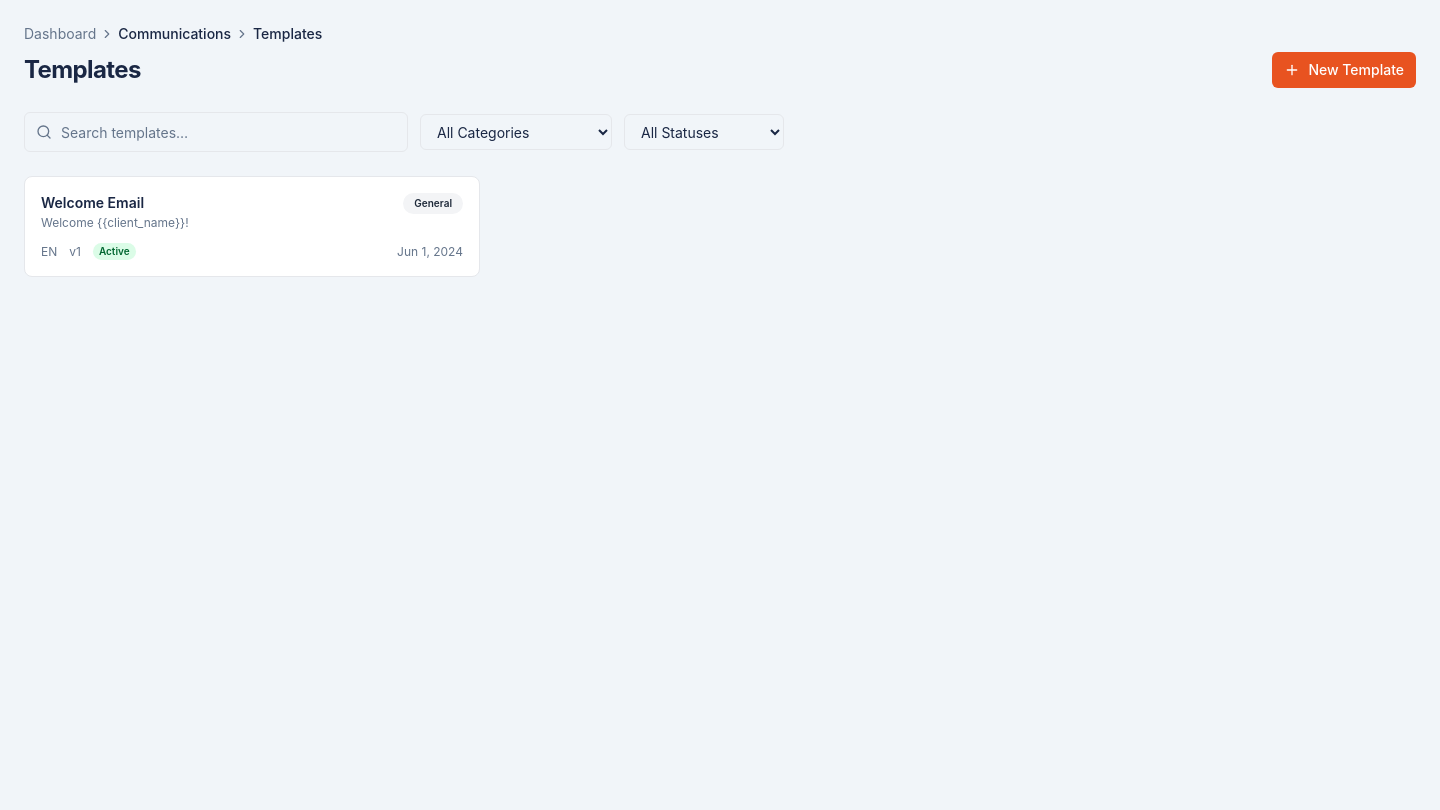
Scenario: TemplatesView › navigates back to list when clicking Back to templates
This screenshot has width=1440, height=810.
Click the heading "Welcome Email" at (93, 202), box [41, 194, 144, 211]
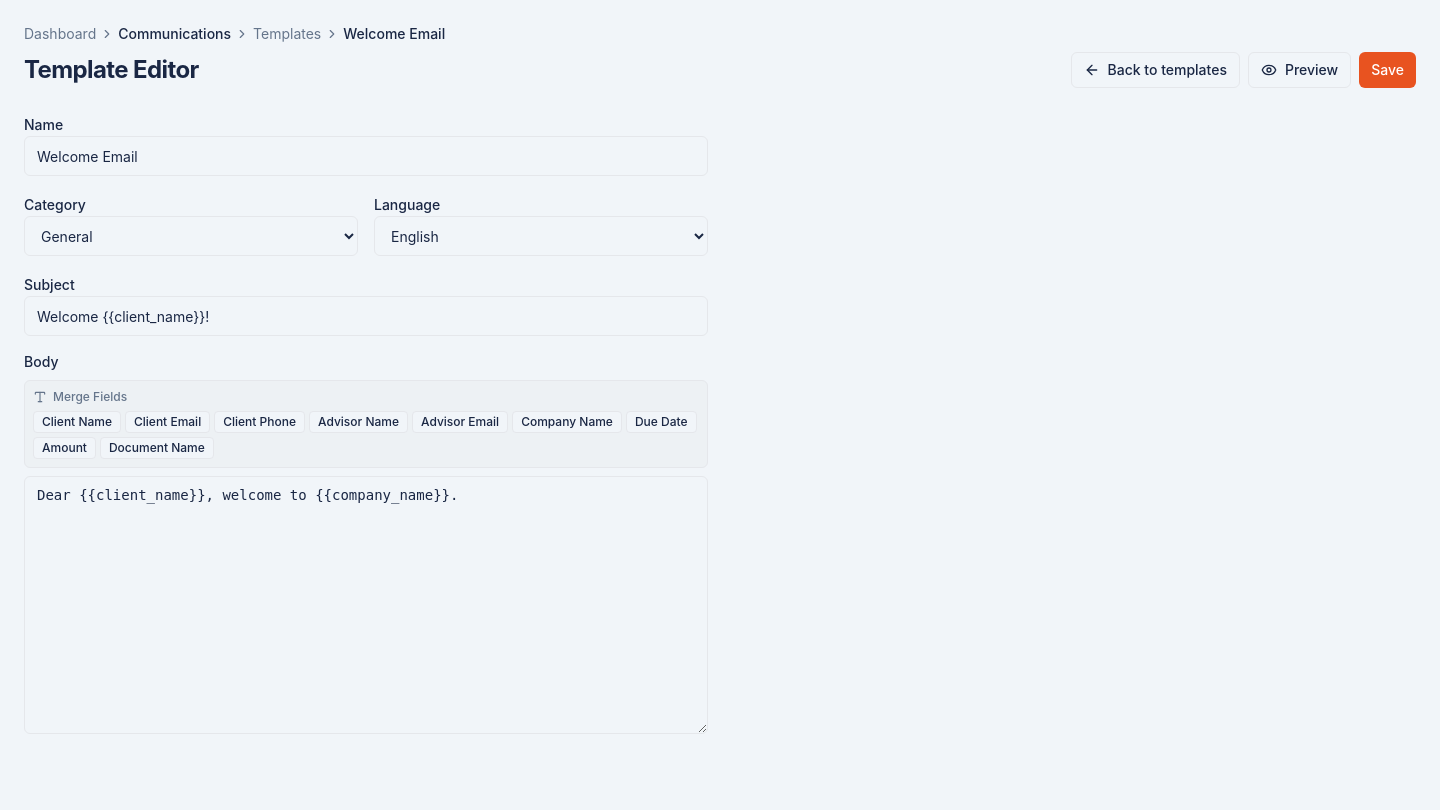
expect the heading reads "Template Editor": met, box [24, 55, 199, 84]
Click the button "Back to templates" at (1155, 70), box [1070, 52, 1240, 88]
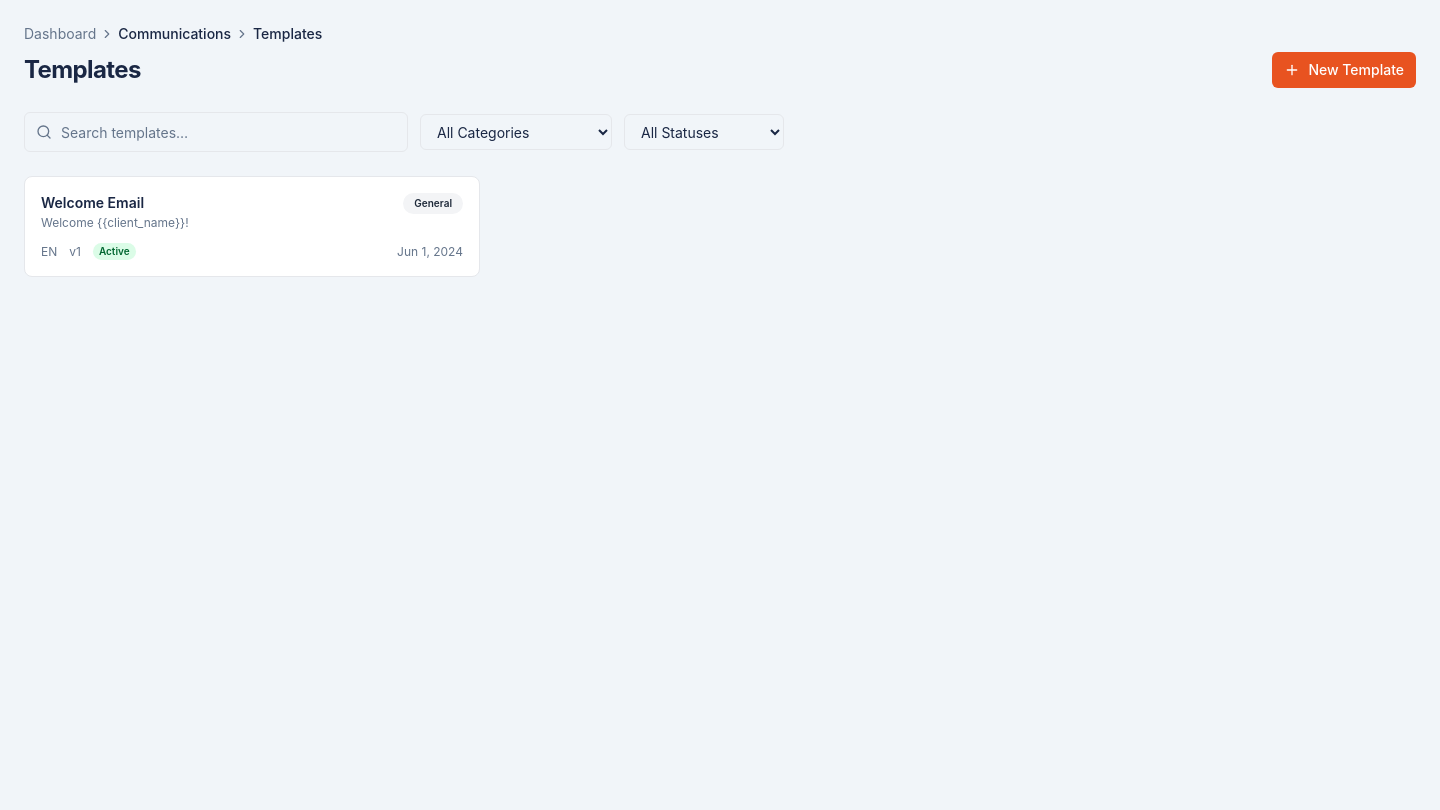
expect the heading "Templates" is shown: met, box [24, 54, 141, 86]
